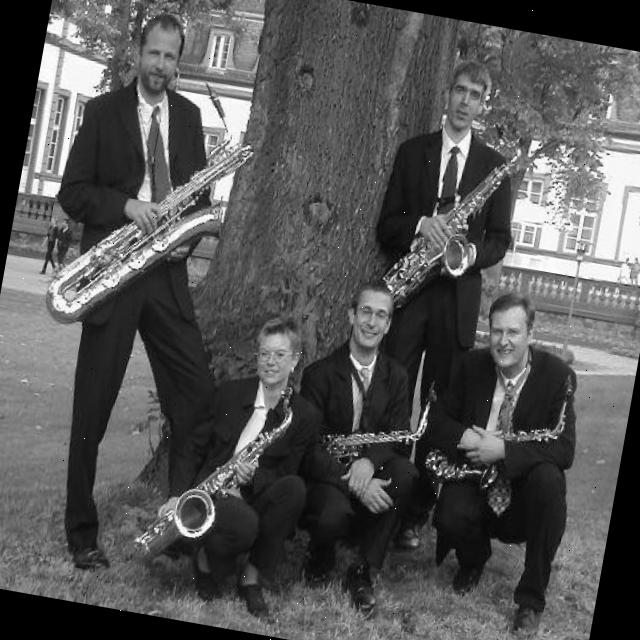saxophone: (38, 58, 266, 353), (124, 361, 301, 590), (378, 105, 538, 314), (418, 350, 580, 506), (312, 361, 438, 474)
